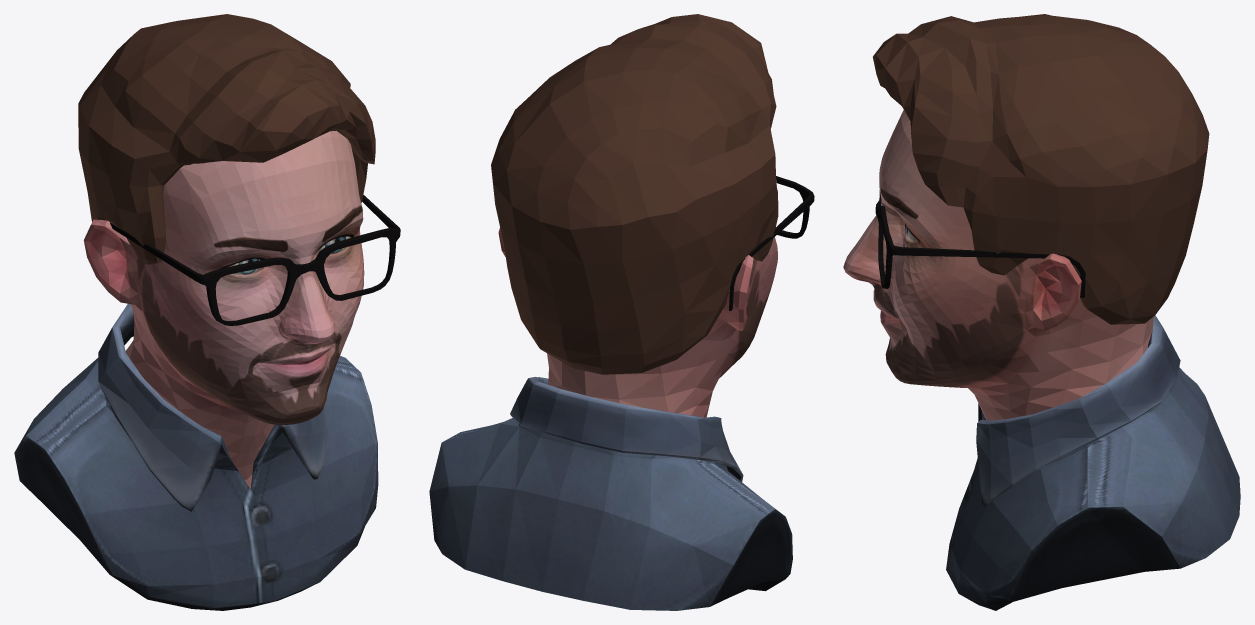
Rendered from selfie.glb.
The picture shows the model from 3 angles, left to right: view 1: azimuth 30°, elevation 25°; view 2: azimuth 150°, elevation 25°; view 3: azimuth 270°, elevation 25°; orthographic projection.
Bounding box in the file's own units: 9.25 × 15.16 × 9.9.
6 materials, 3 textured.
